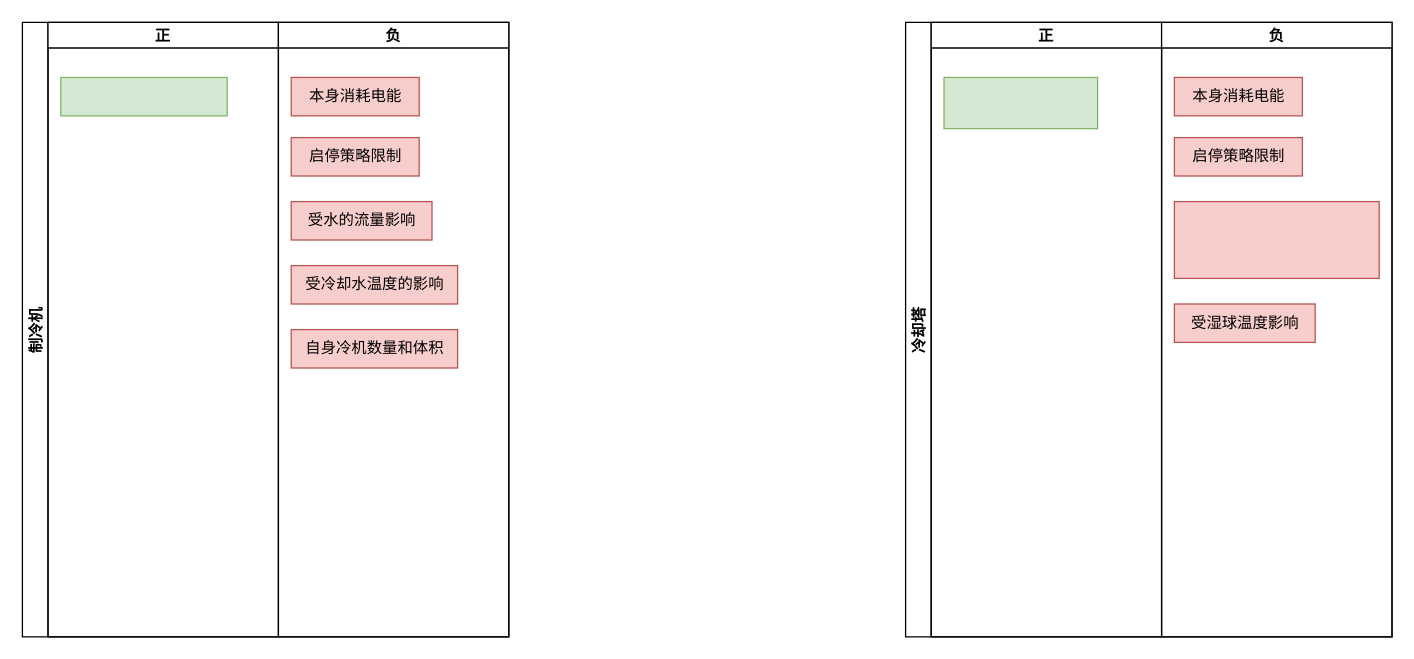
Image size: 1414x659. Some labels were removed from this diagram. Here are the shapes that lost their labels. From the top down, the centre of each, then its label:
At pixel 143 96: "直接为用户提供冷源".
At pixel 1020 102: "服务制冷机达到 更低的冷却水温度".
At pixel 1276 239: "开关机/增加风机 为了极致降低冷却水温度 是否消耗了更多的能量".
